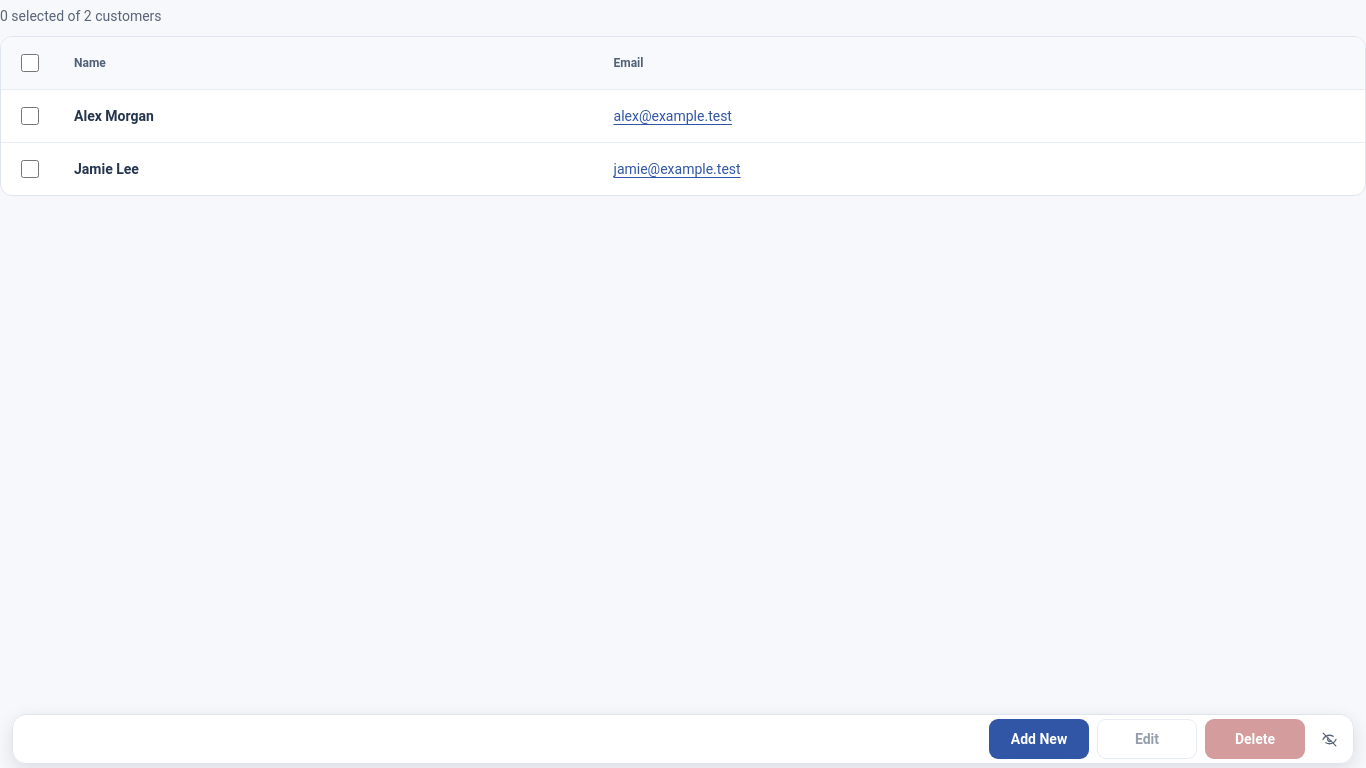
Test: CustomersComponent › requires modal confirmation and sends selected IDs in one delete request
Click the checkbox named "Select Alex Morgan".
click(30, 116)  # box [21,107,39,125]
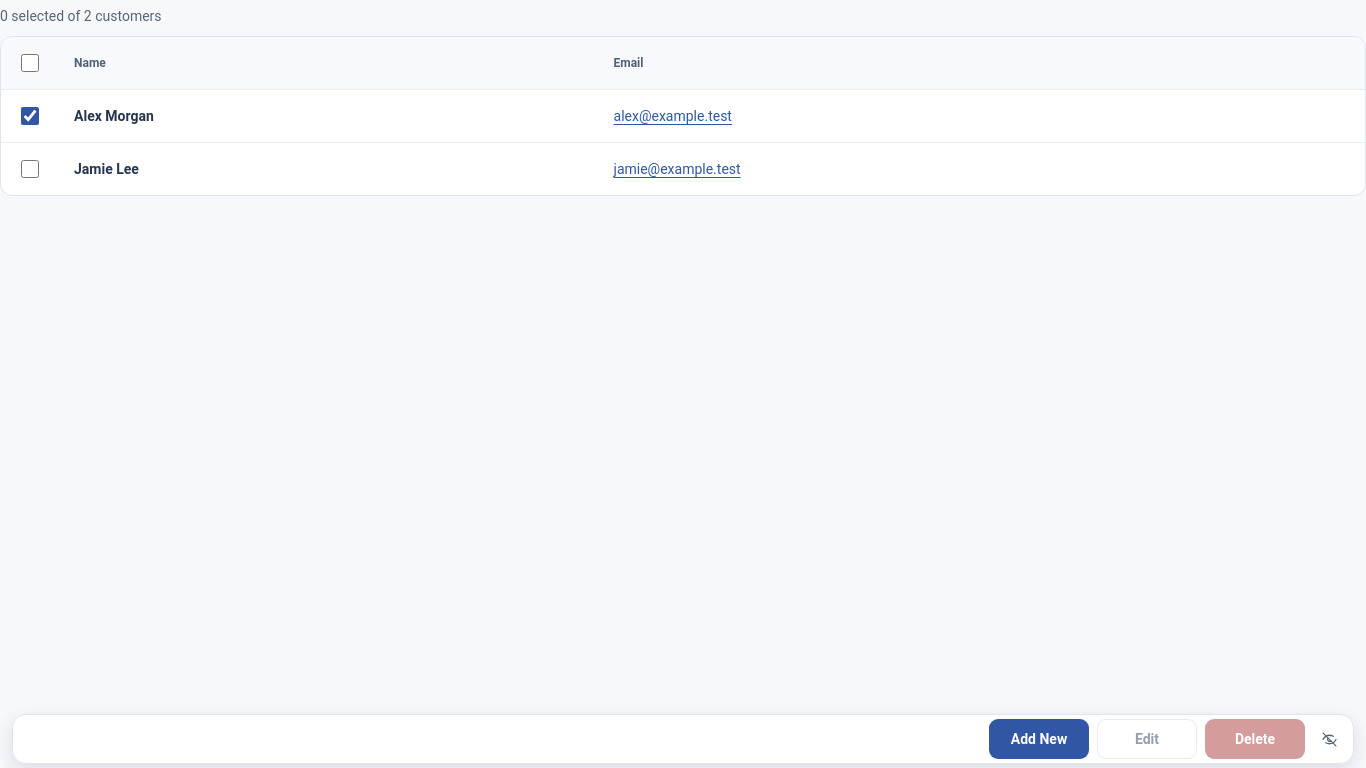
Click the checkbox named "Select Jamie Lee".
click(30, 169)  # box [21,160,39,178]
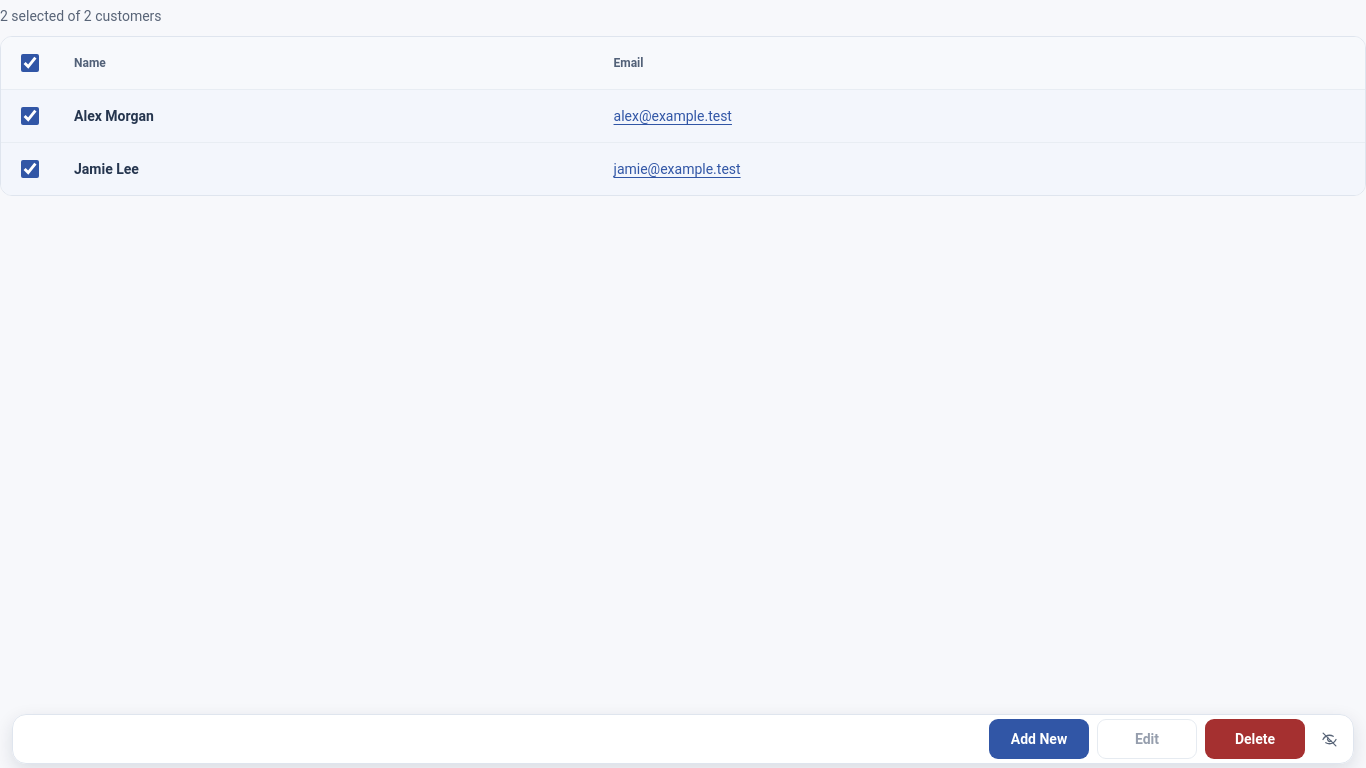
Click the button with class "danger".
click(1255, 739)  # box [1205,719,1305,759]
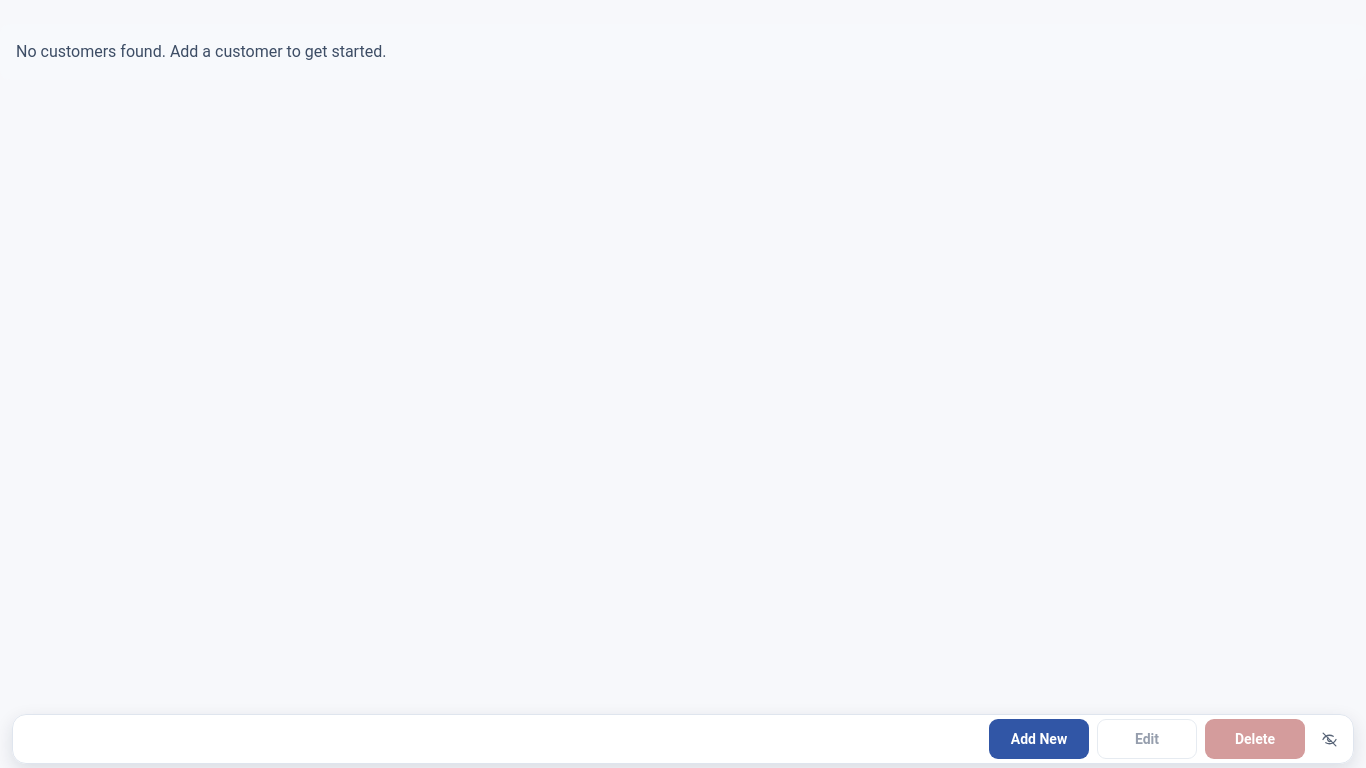
Result: the text "Alex Morgan" is gone
Result: the text "No customers found" is shown at [16,42,386,61]
